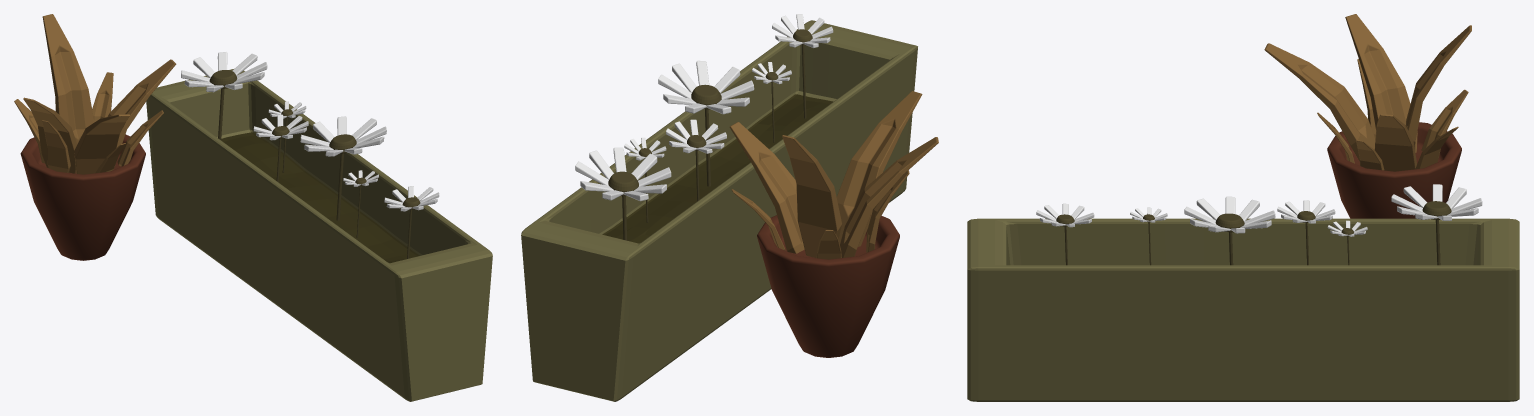
File: çiçek.fbx
The picture shows the model from 3 angles, left to right: view 1: azimuth 30°, elevation 25°; view 2: azimuth 150°, elevation 25°; view 3: azimuth 270°, elevation 25°; orthographic projection. The views are drawn at different scales.
Visible parts, largest first — view 1: çiçek.001, çiçek; view 2: çiçek.001, çiçek; view 3: çiçek.001, çiçek.
Part boxes in pixels (left/top/right/bottom): çiçek.001: left=146, top=52, right=492, bottom=401; çiçek: left=14, top=14, right=176, bottom=260; çiçek.001: left=521, top=14, right=917, bottom=401; çiçek: left=729, top=91, right=938, bottom=357; çiçek.001: left=967, top=184, right=1519, bottom=401; çiçek: left=1264, top=14, right=1471, bottom=218.
Size of the model in its own units: 230 by 183 by 341.
